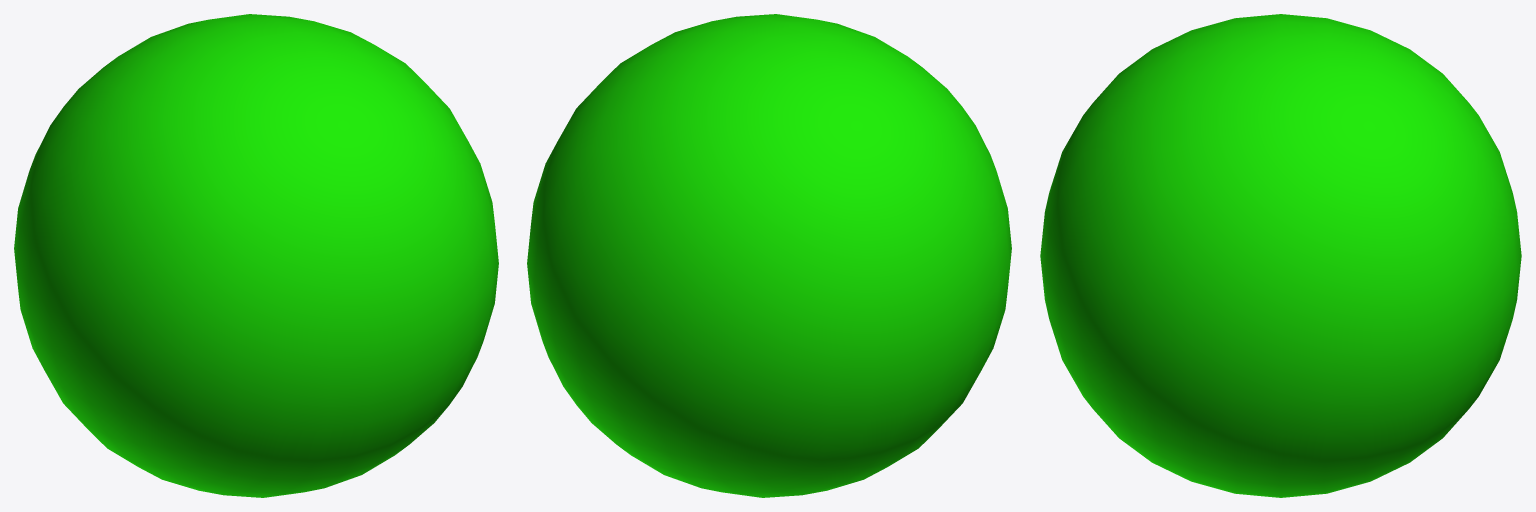
File: Schleim.fbx
3 views of the same model, side by side, from view 1: azimuth 30°, elevation 25°; view 2: azimuth 150°, elevation 25°; view 3: azimuth 270°, elevation 25° (orthographic).
Parts seen in each view (by area): view 1: Schleim; view 2: Schleim; view 3: Schleim.
Boxes of the visible parts, box(x1,y1,x2,y2) form: Schleim: box(14, 14, 498, 497); Schleim: box(527, 14, 1011, 497); Schleim: box(1040, 14, 1521, 497).
Size of the model in its own units: 200 by 200 by 200.
